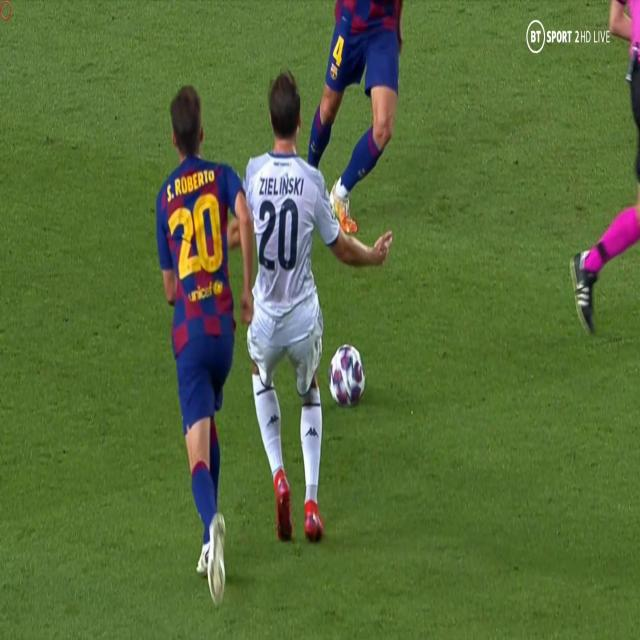ball: (325, 335, 370, 412)
player: (214, 48, 380, 552), (139, 55, 267, 587), (303, 0, 418, 238), (575, 0, 640, 340)
